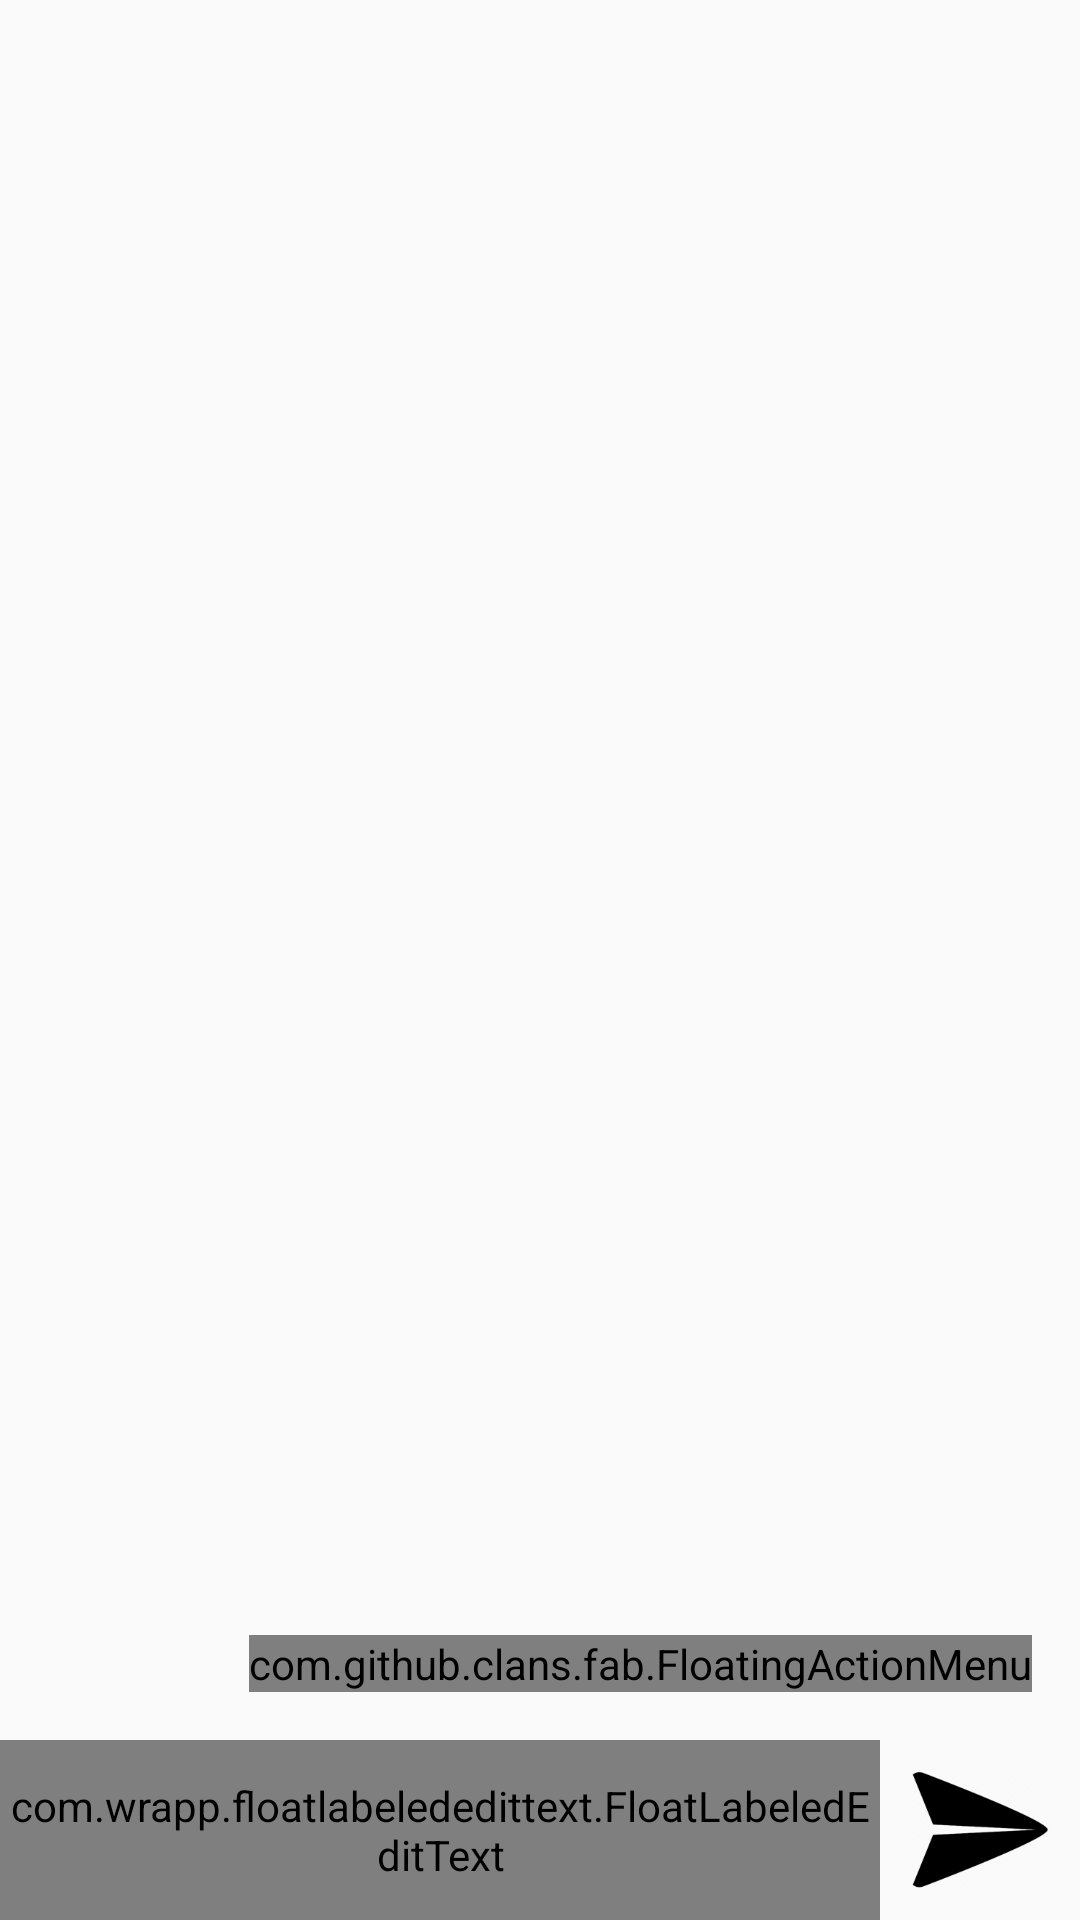

Icon bounding boxes for this 1080×1920 phone screenshot, format (x1,y1,x2,y2):
send: (912,1772,1048,1888)
